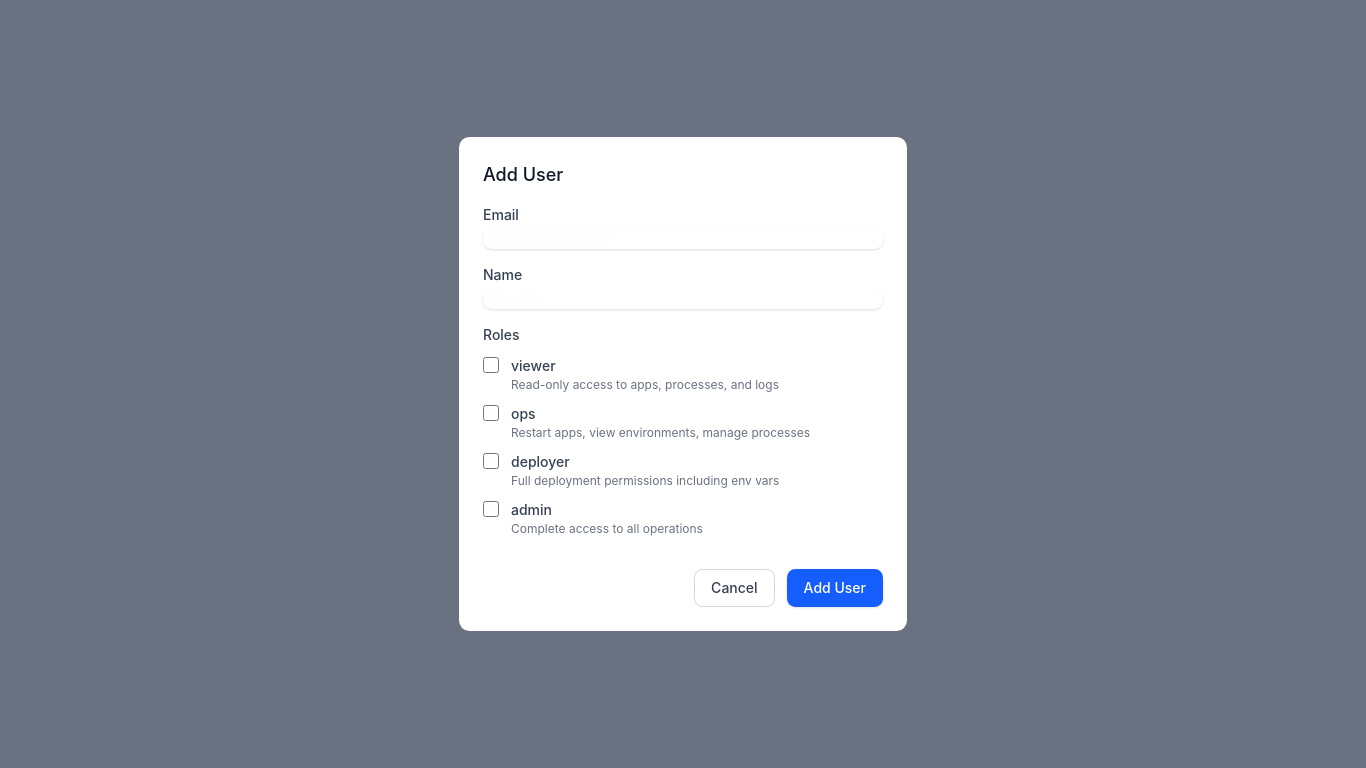
Test case: UserEditModal › validates required fields
Click the button "Add User" at x=835, y=588, box [787,569,883,607]
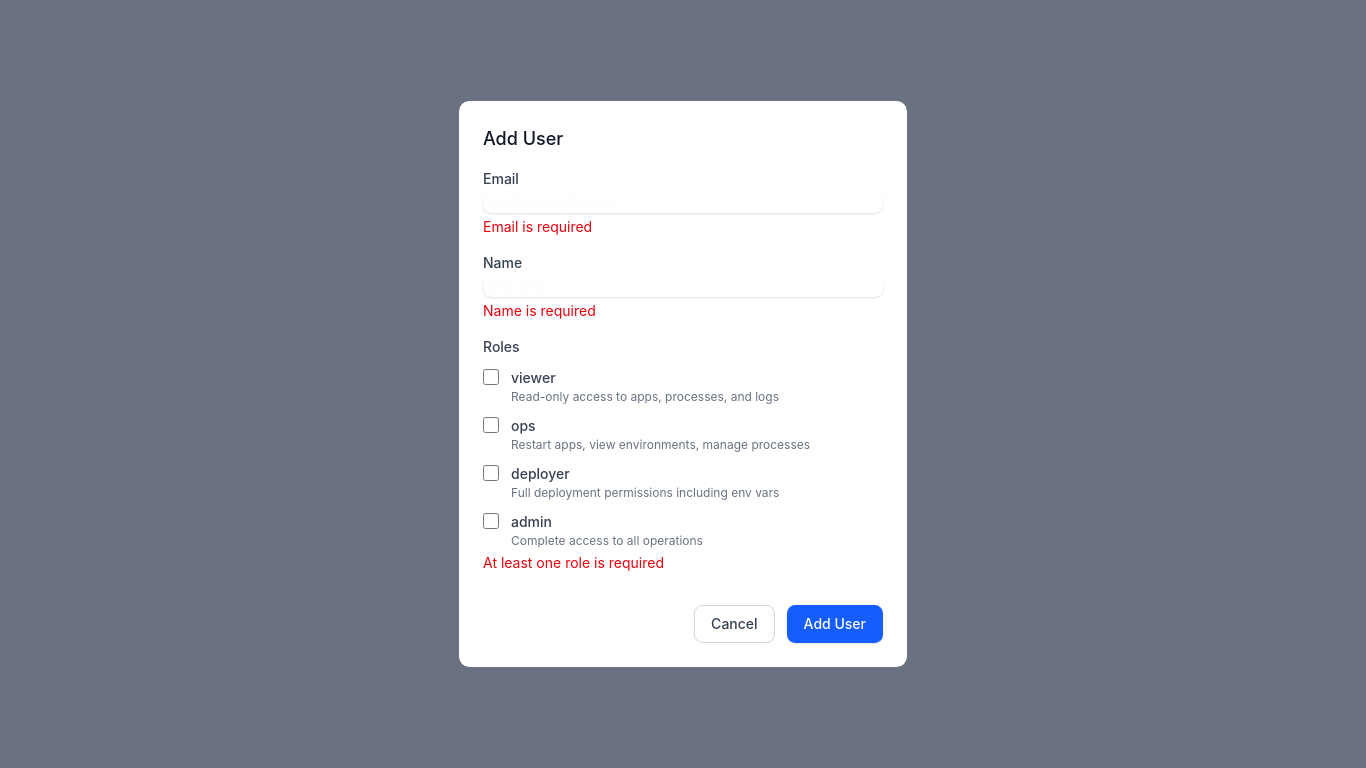
Result: the text "Email is required" is shown at [483,218,592,235]
Result: the text "Name is required" is shown at [483,302,596,319]
Result: the text "At least one role is required" is shown at [483,554,664,571]
